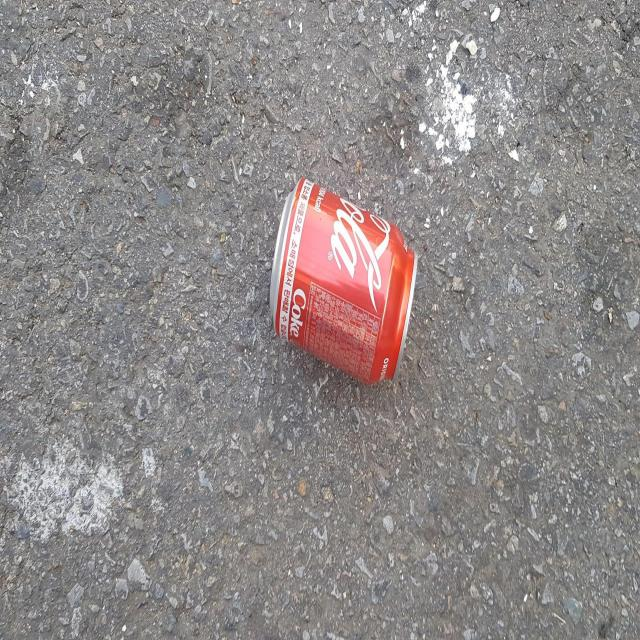can: (270, 178, 418, 383)
